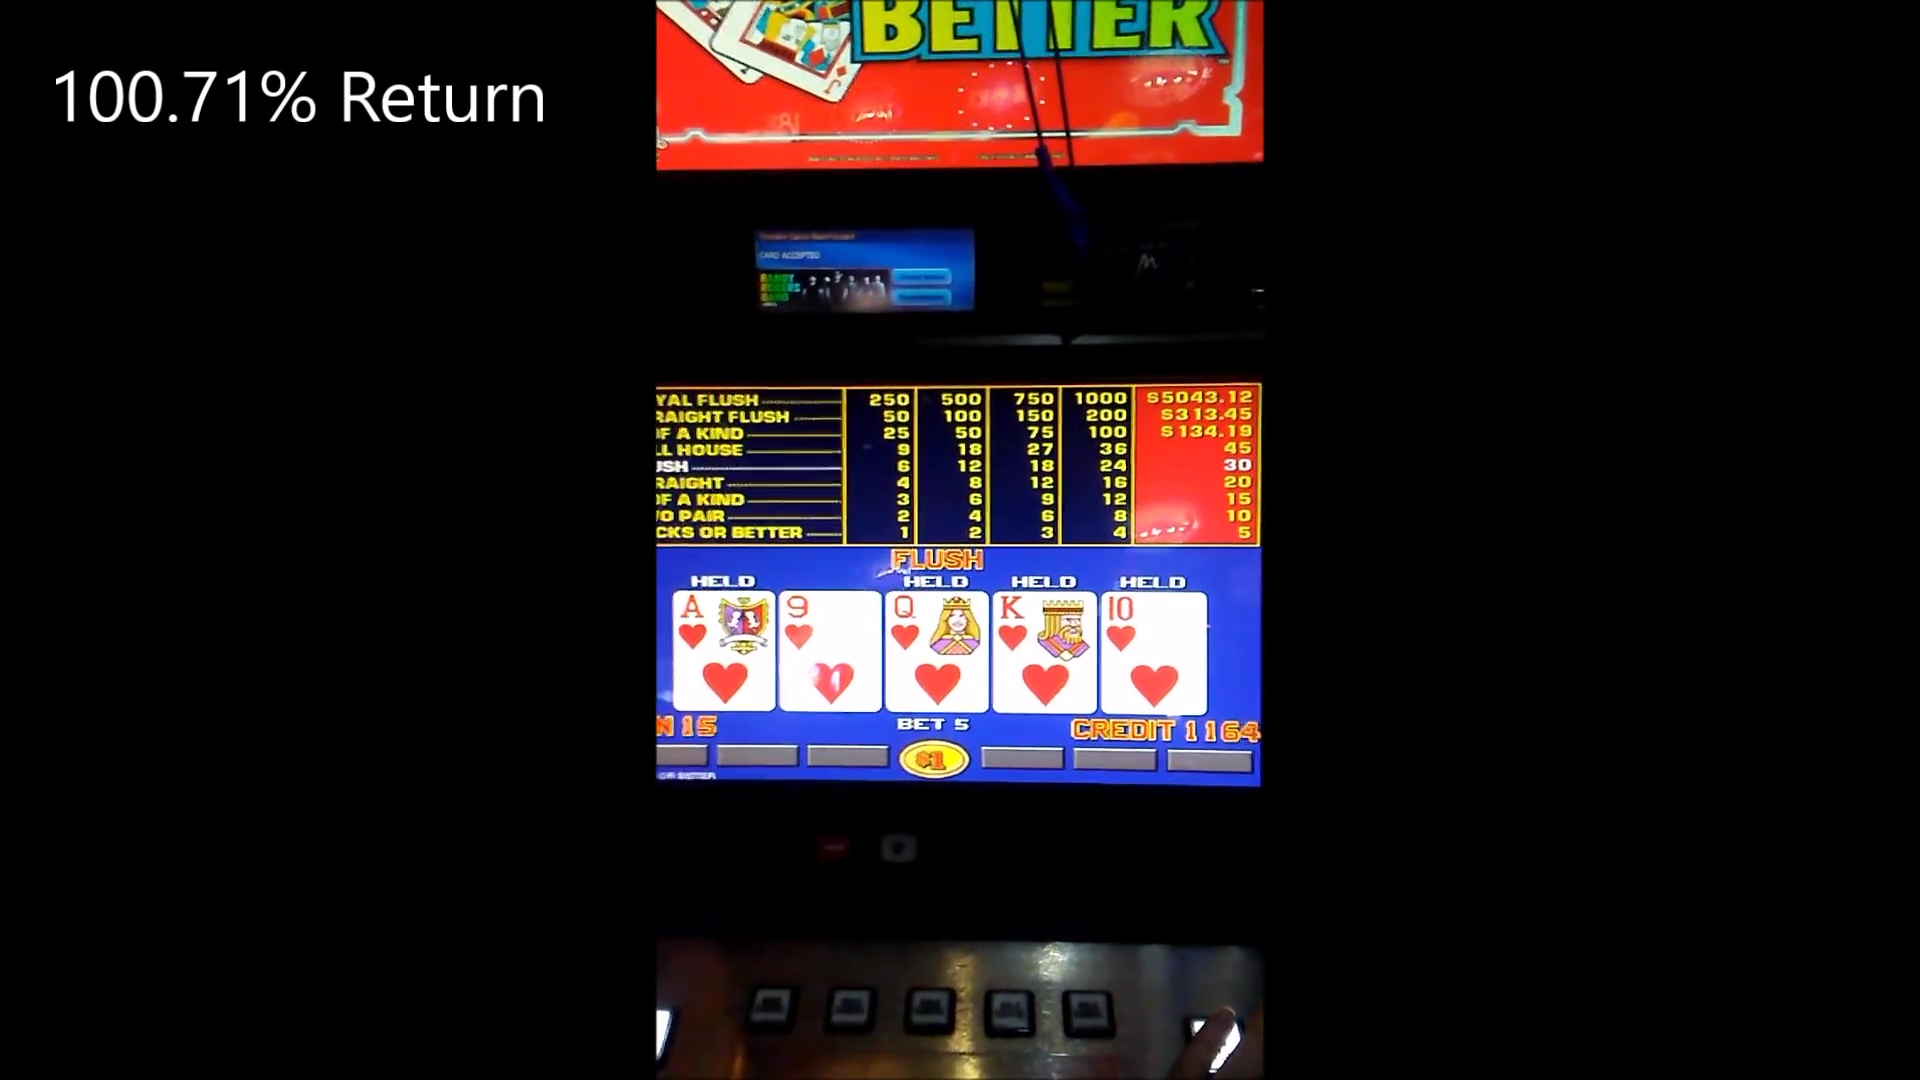9H: (781, 593, 882, 654)
AH: (675, 592, 774, 655)
KH: (993, 593, 1097, 661)
QH: (885, 592, 989, 657)
TH: (1101, 596, 1207, 662)
